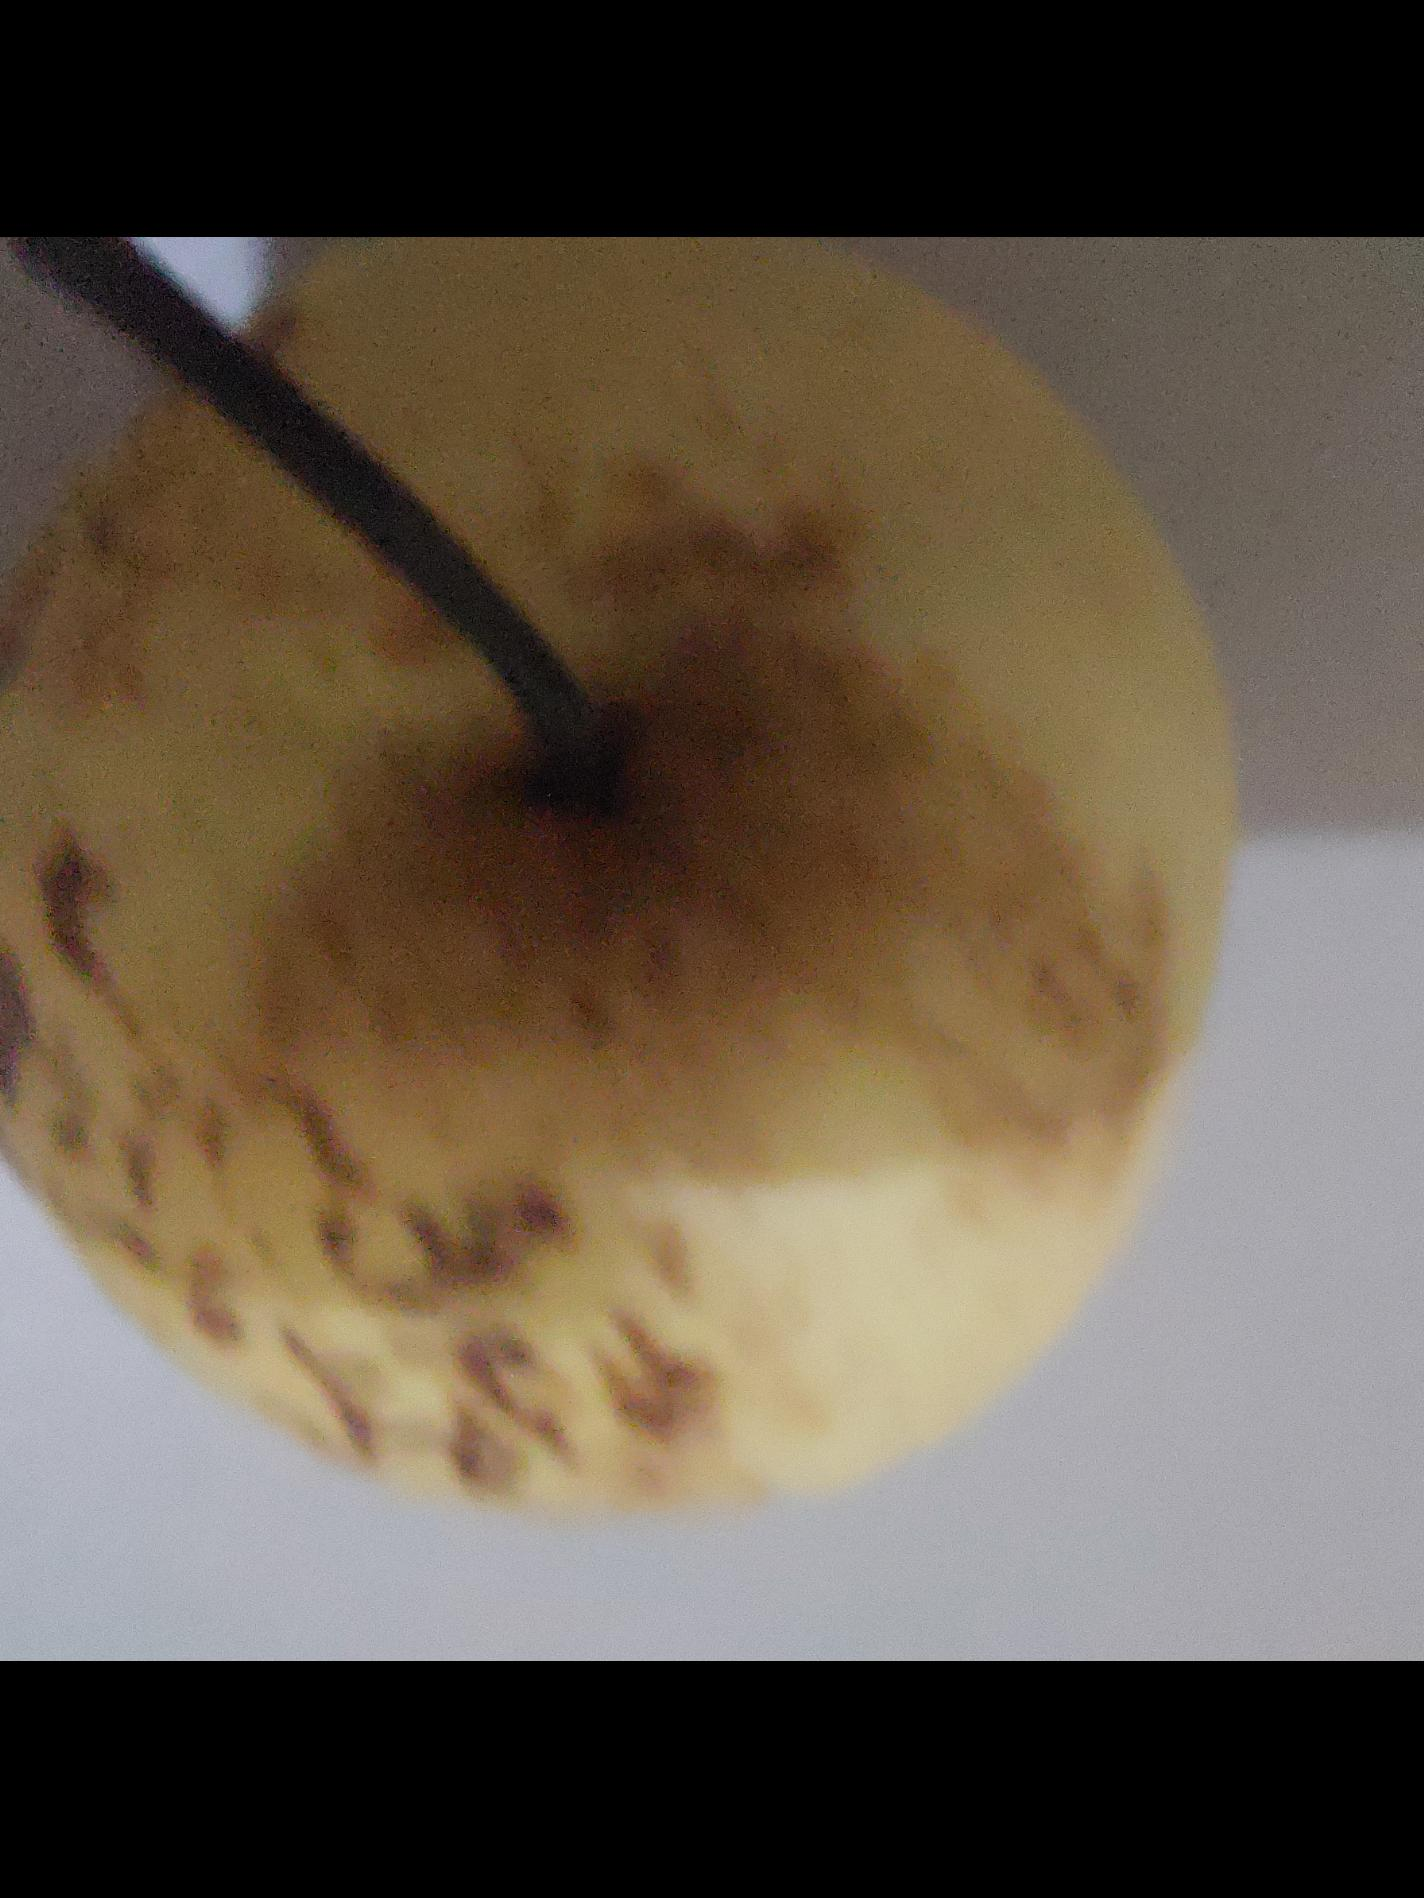Bad Pear: (0, 236, 1247, 1491)
